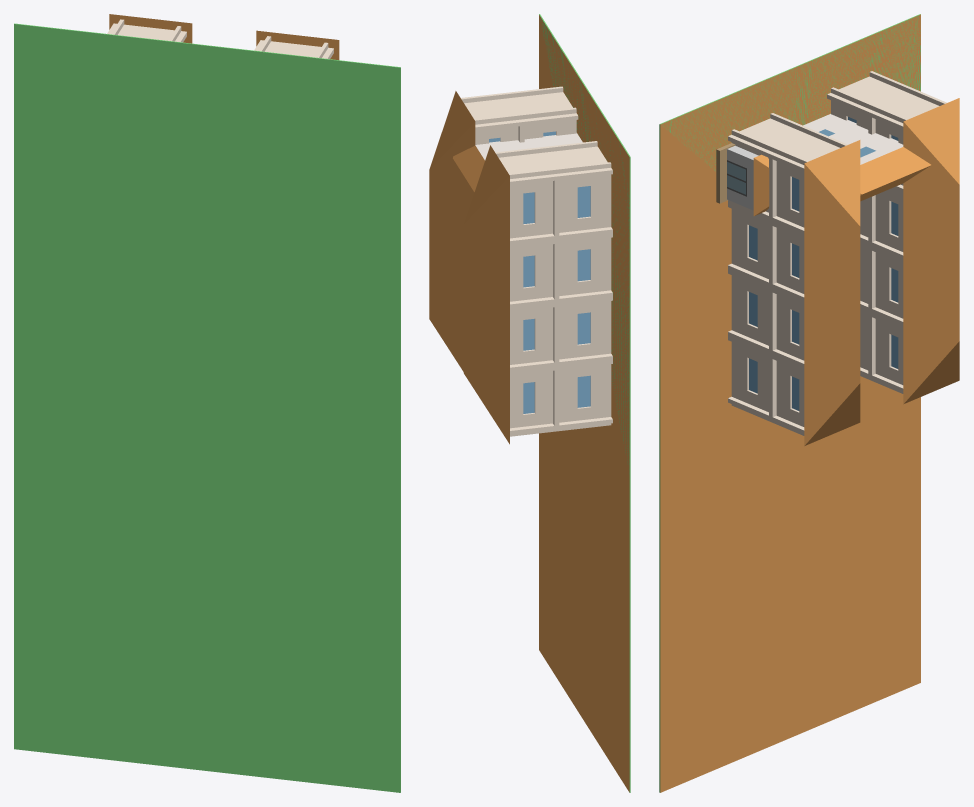
The model's file is 10_school_model.fbx.
3 renders of one model, left to right at view 1: azimuth 30°, elevation 25°; view 2: azimuth 150°, elevation 25°; view 3: azimuth 270°, elevation 25°, orthographic. The views are drawn at different scales.
Parts seen in each view (by area): view 1: 平面.001; view 2: 平面.001; view 3: 平面.001.
Boxes of the visible parts, x1,y1,x2,y2 form: 平面.001: (14,14,400,792); 平面.001: (429,14,630,792); 平面.001: (659,14,959,792).
Bounding box in the file's own units: 959 × 2532 × 1030.
